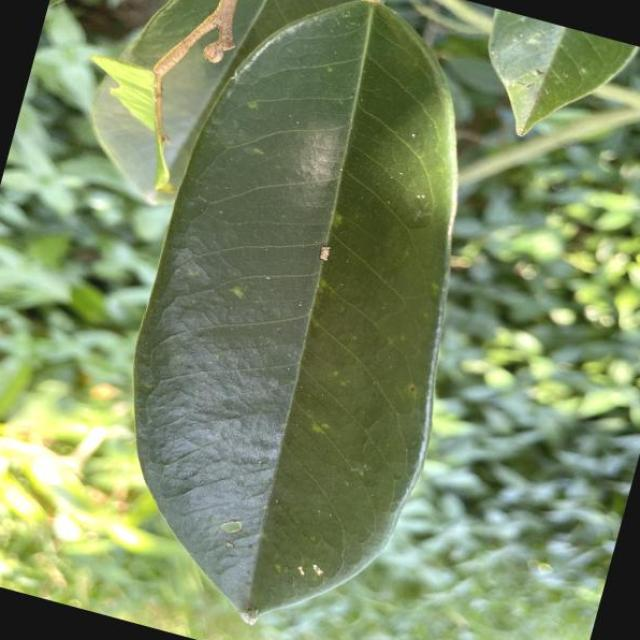No Disease: (54, 0, 556, 640)
